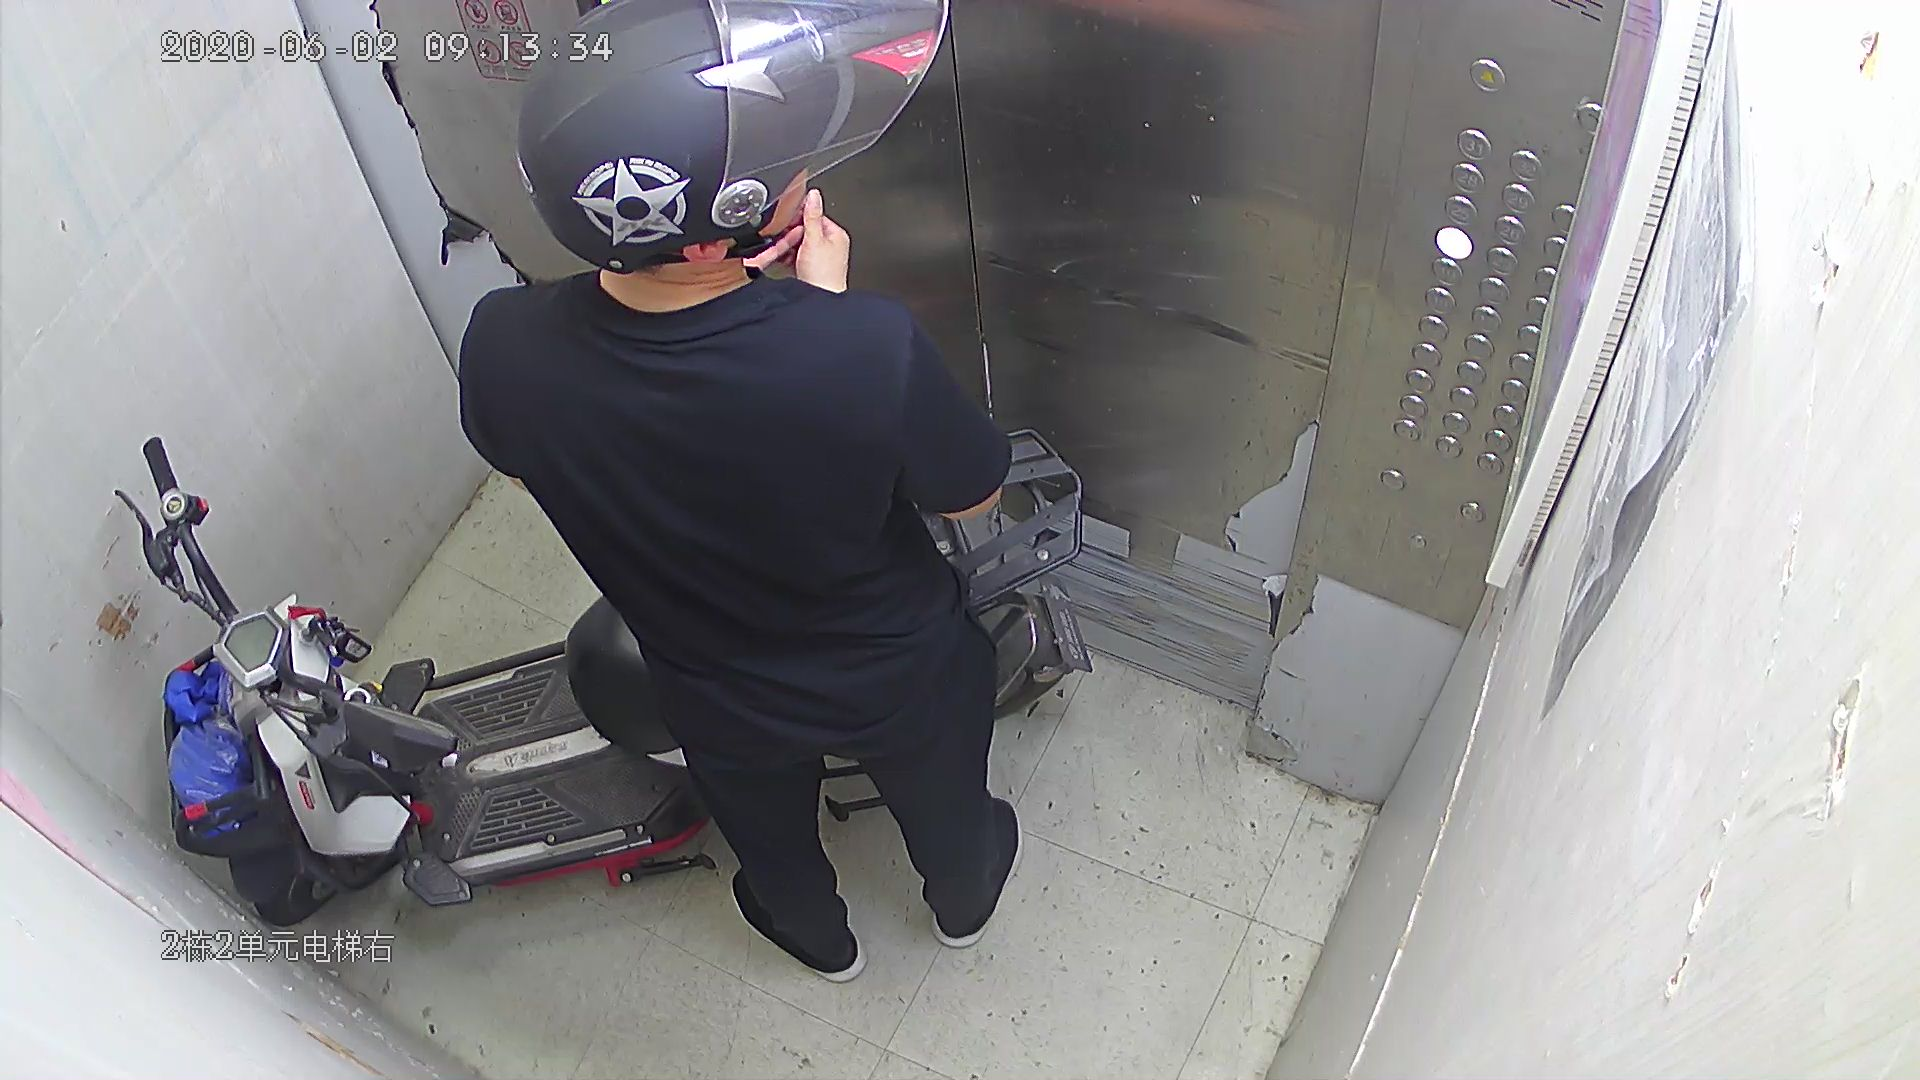Electric-bicycle: (107, 425, 1091, 931)
